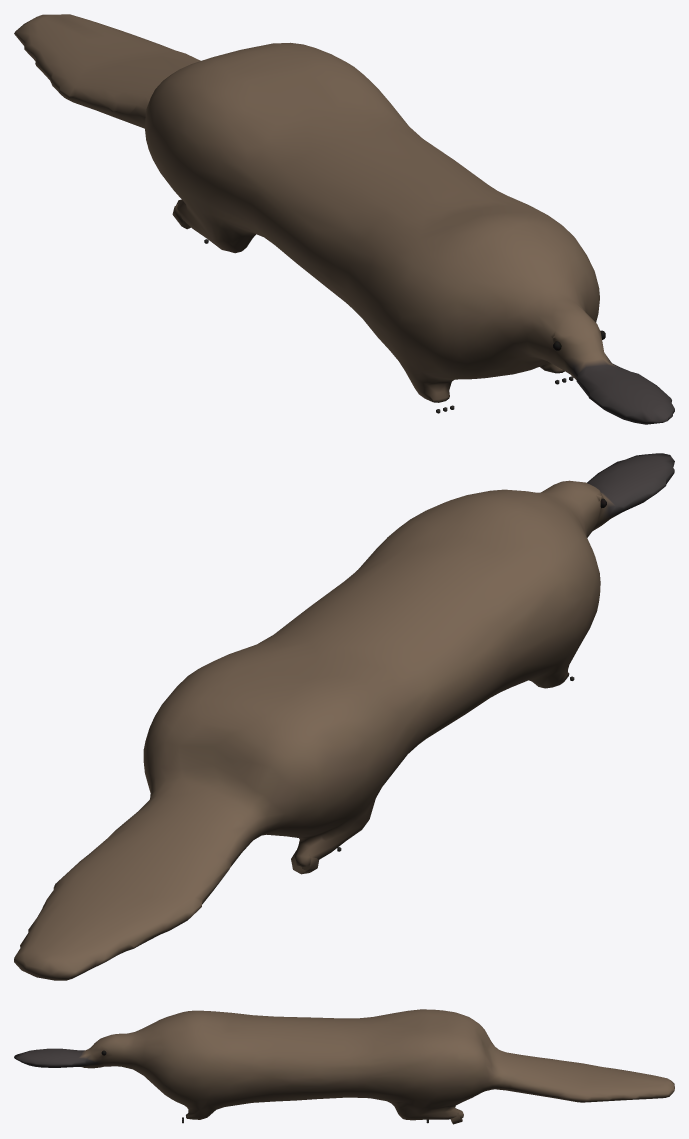
Rendered from schnabeltier.glb.
The picture shows the model from 3 angles, top to bottom: view 1: azimuth 30°, elevation 25°; view 2: azimuth 150°, elevation 25°; view 3: azimuth 270°, elevation 25°; orthographic projection. The views are drawn at different scales.
Parts seen in each view (by area): view 1: lack; view 2: lack; view 3: lack.
Part boxes in pixels (bbox=[...]): lack: bbox=[14, 14, 674, 424]; lack: bbox=[14, 453, 674, 980]; lack: bbox=[14, 1009, 674, 1124].
Size of the model in its own units: 0.1427 by 0.1175 by 0.765.
